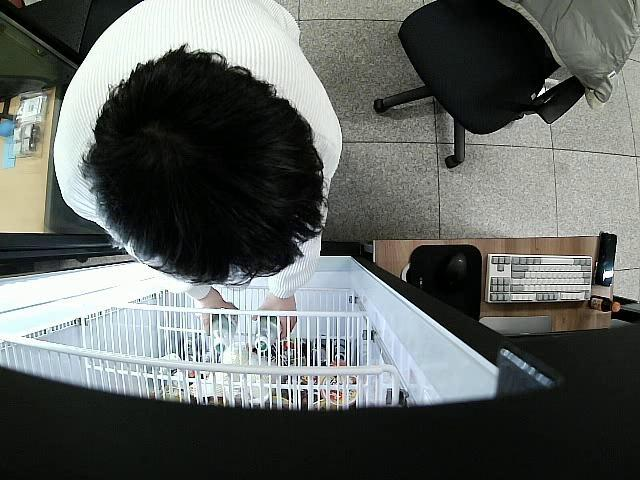18_trevi: (253, 315, 280, 356), (209, 312, 234, 354)
